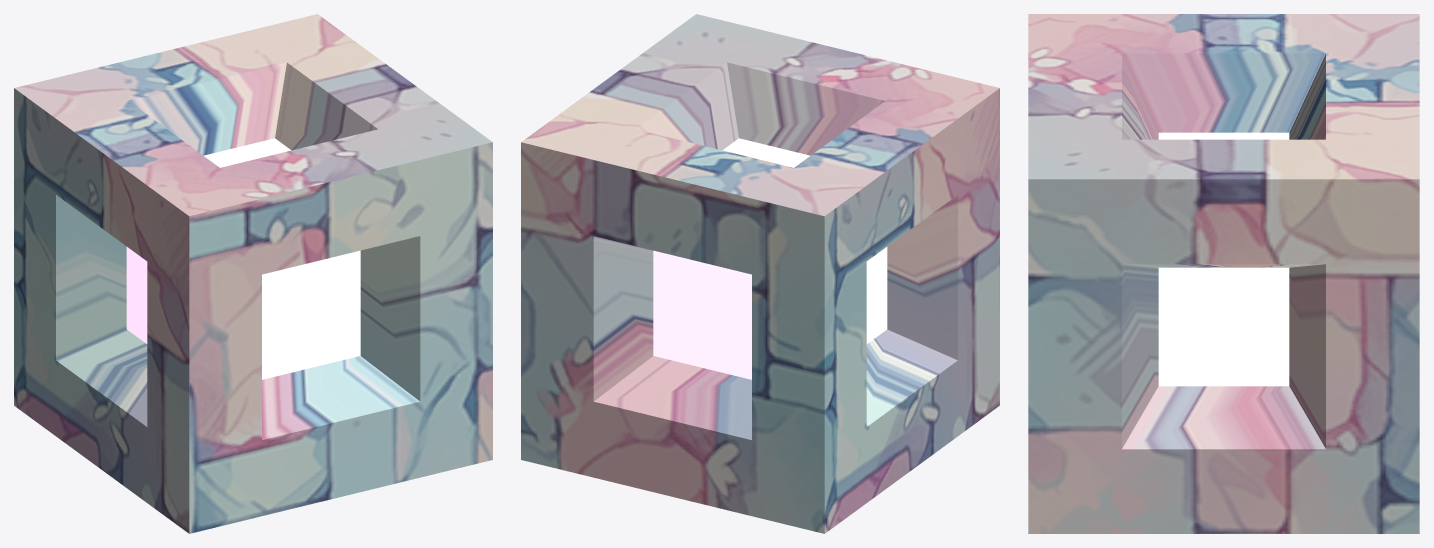
The model's file is endCube.glb.
The picture shows the model from 3 angles, left to right: view 1: azimuth 30°, elevation 25°; view 2: azimuth 150°, elevation 25°; view 3: azimuth 270°, elevation 25°; orthographic projection. The views are drawn at different scales.
Visible parts, largest first — view 1: Cube.001; view 2: Cube.001; view 3: Cube.001.
Part boxes in pixels (x1,y1,x2,y2): Cube.001: (14,14,492,533); Cube.001: (521,14,999,533); Cube.001: (1028,14,1419,533).
Size of the model in its own units: 2 by 2 by 2.
Materials: 2 (1 with a texture image).
